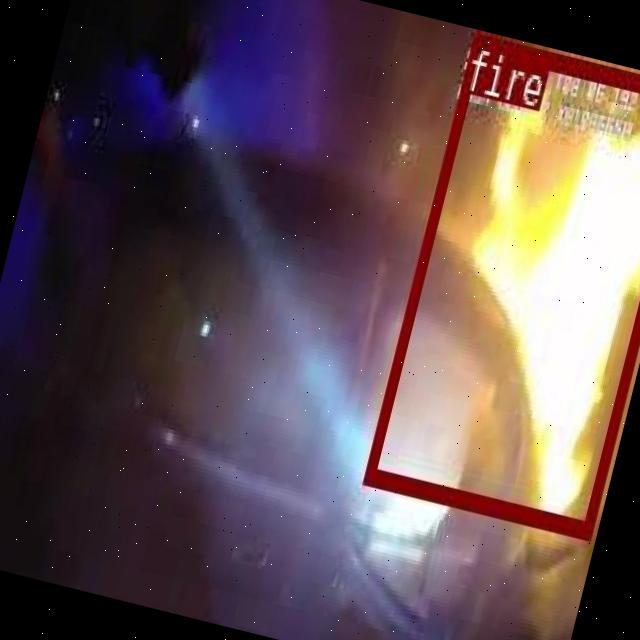fire: (361, 28, 640, 537)
